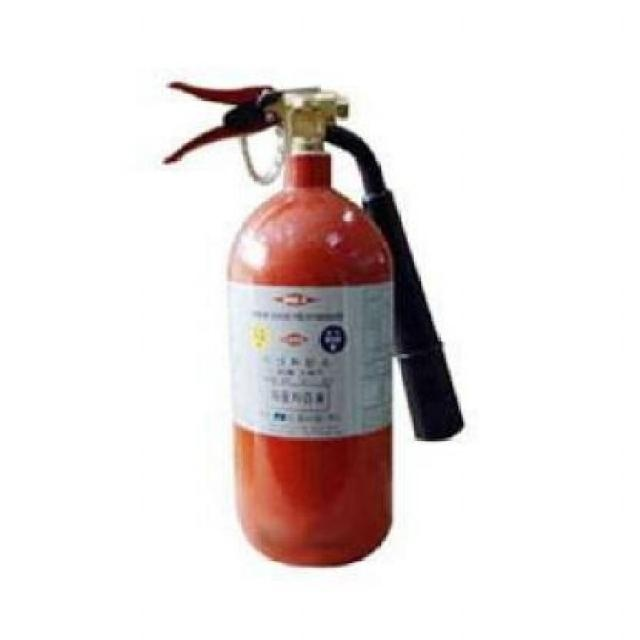fire extinguisher: (163, 80, 465, 569)
